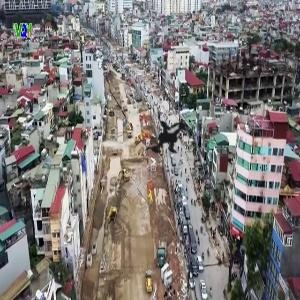drone: (124, 94, 218, 188)
